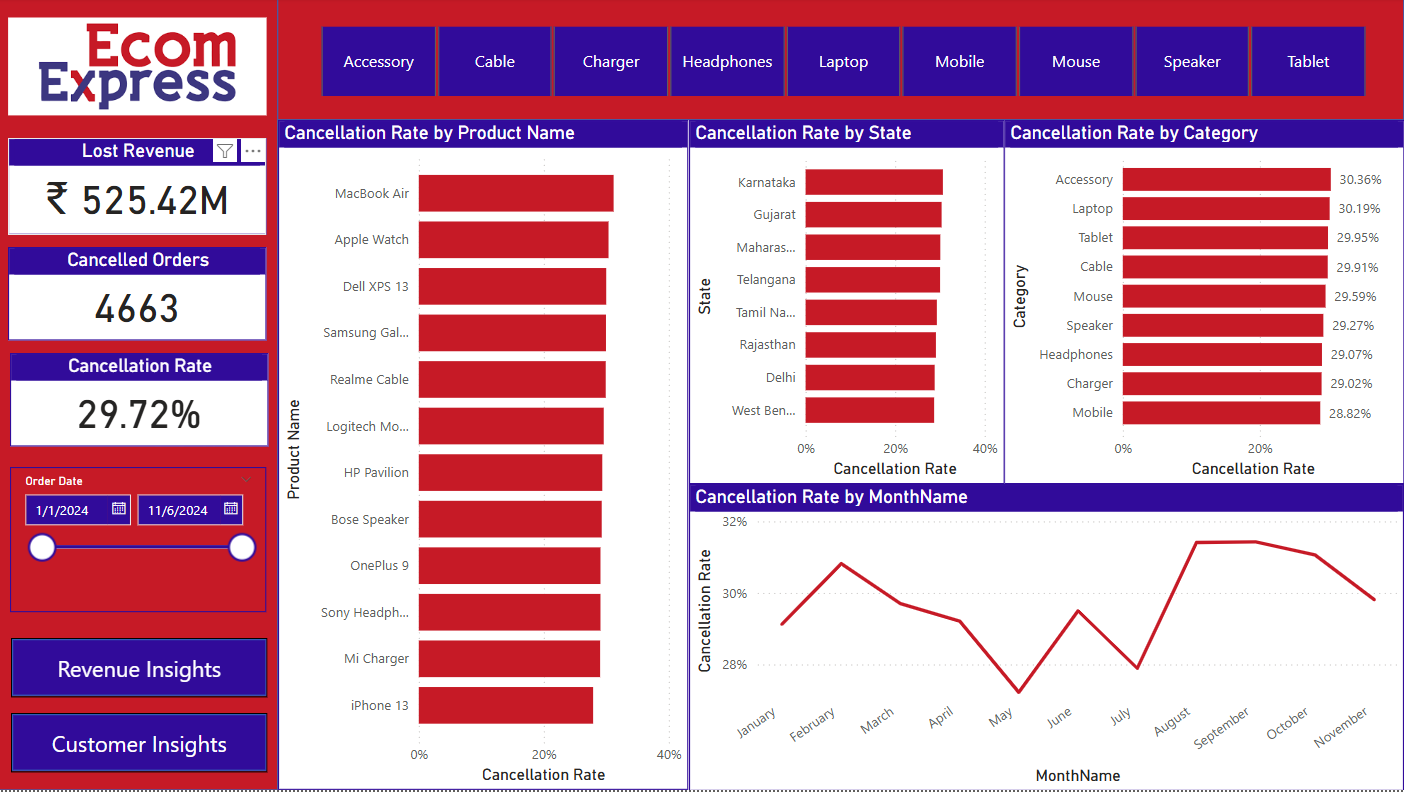

The dashboard page shown, as its layout file describes it:
{"tool":"powerbi","page":{"name":"Cancellation Insights","canvas":[1280,720],"ordinal":2},"visuals":[{"type":"shape","box":[0,0,1280.3,111.1],"z":0},{"type":"shape","box":[0,0,256.6,720.4],"z":1000},{"type":"image","box":[0,12.3,256.6,98.8],"z":2000},{"type":"slicer","fields":{"Values":["Products.Category"]},"box":[270.3,19.2,999,76.8],"z":3000},{"type":"barChart","fields":{"Category":["Products.Product Name"],"Y":["table.Cancellation Rate"]},"box":[256.6,111.1,373.2,609.3],"z":4000},{"type":"barChart","fields":{"Y":["table.Cancellation Rate"],"Category":["Products.Category"]},"box":[916.6,111.1,363.6,330.7],"z":5000},{"type":"barChart","fields":{"Category":["Customers.State"],"Y":["table.Cancellation Rate"]},"box":[629.8,111.1,286.8,330.7],"z":6000},{"type":"lineChart","fields":{"Y":["table.Cancellation Rate"],"Category":["Orders.MonthName"]},"box":[629.8,441.9,650.4,278.6],"z":7000},{"type":"slicer","fields":{"Values":["Orders.Date and time of purchase"]},"box":[12.3,426.8,233.3,131.7],"z":8000},{"type":"card","title":"Lost Revenue","fields":{"Values":["table.Cancelled_amount"]},"box":[11,127.6,234.6,87.8],"z":9000},{"type":"shape","box":[13.7,650.4,233.3,53.5],"z":10000},{"type":"card","title":"Cancelled Orders","fields":{"Values":["table.cancelled_orders"]},"box":[11,226.4,234.6,85.1],"z":11000},{"type":"card","title":"Cancellation Rate","fields":{"Values":["table.Cancellation Rate"]},"box":[12.3,322.5,234.6,85.1],"z":12000},{"type":"shape","box":[13.7,581.8,233.3,53.5],"z":13000}]}

Visuals, with their boxes in screenshot pixels (x1, y1, x2, y2), scaled from the page's 1280x720 canvas onto the 1404x794 screenshot:
shape: <bbox>0, 0, 1403, 123</bbox>
shape: <bbox>0, 0, 281, 793</bbox>
image: <bbox>0, 14, 281, 123</bbox>
slicer - Products.Category: <bbox>296, 21, 1392, 106</bbox>
barChart - Products.Product Name x table.Cancellation Rate: <bbox>281, 123, 691, 793</bbox>
barChart - table.Cancellation Rate x Products.Category: <bbox>1005, 123, 1403, 487</bbox>
barChart - Customers.State x table.Cancellation Rate: <bbox>691, 123, 1005, 487</bbox>
lineChart - table.Cancellation Rate x Orders.MonthName: <bbox>691, 487, 1403, 793</bbox>
slicer - Orders.Date and time of purchase: <bbox>13, 471, 269, 616</bbox>
"Lost Revenue" card: <bbox>12, 141, 269, 238</bbox>
shape: <bbox>15, 717, 271, 776</bbox>
"Cancelled Orders" card: <bbox>12, 250, 269, 344</bbox>
"Cancellation Rate" card: <bbox>13, 356, 271, 449</bbox>
shape: <bbox>15, 642, 271, 701</bbox>
